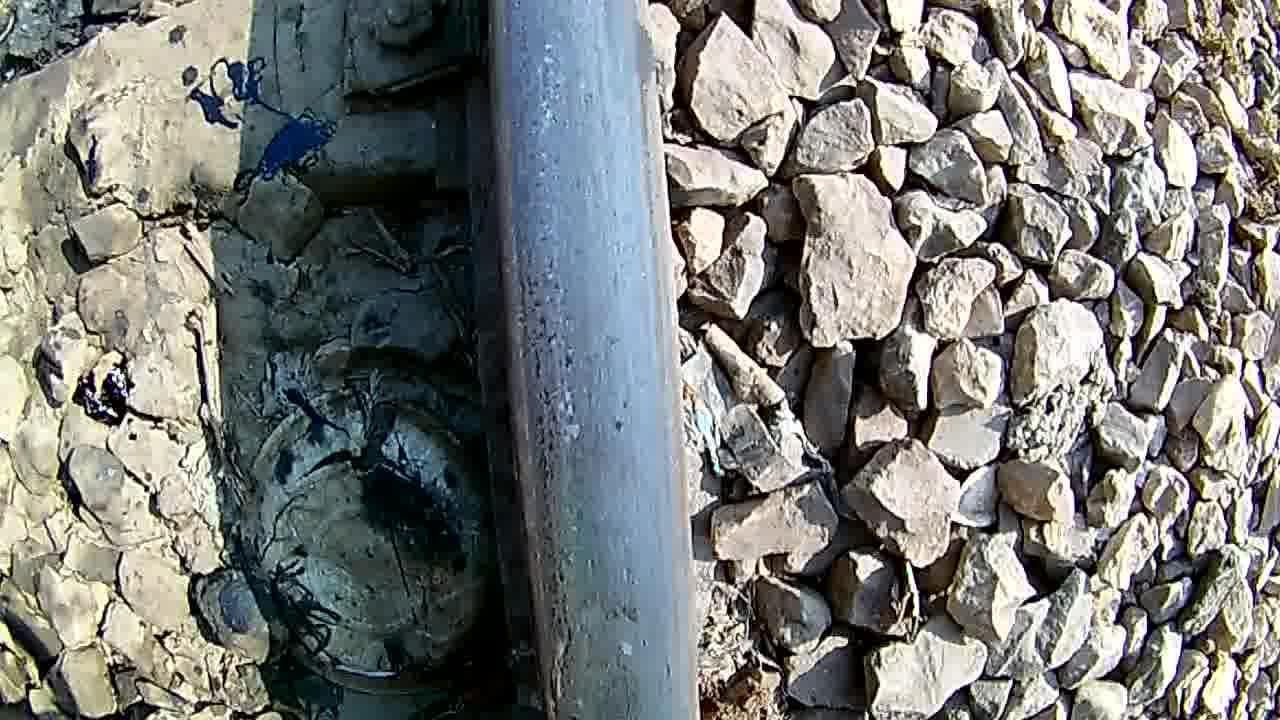crack: (482, 0, 652, 720)
